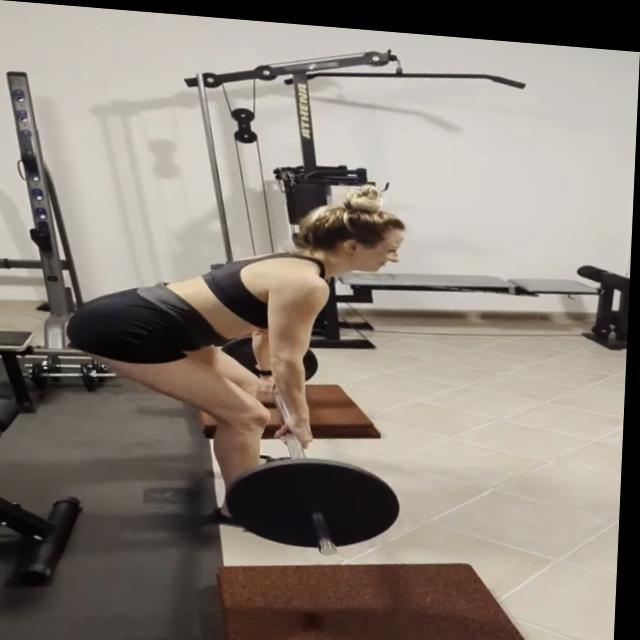barbell: (227, 444, 414, 559)
